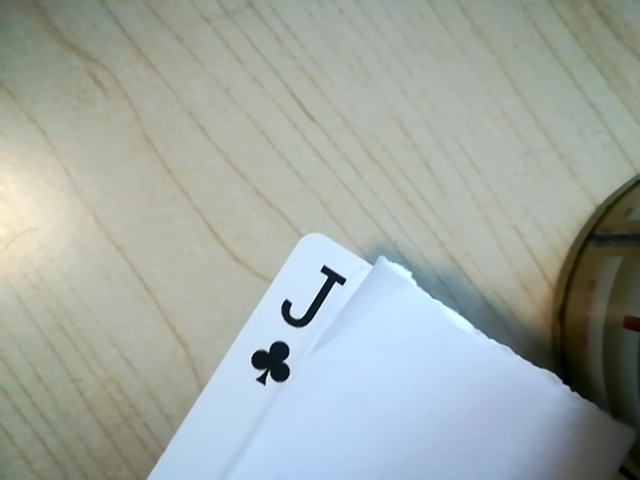mh j: (243, 263, 354, 393)
